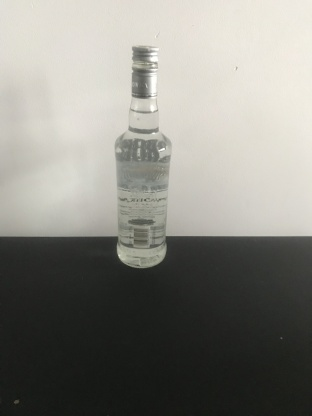nakretka: (130, 45, 160, 98)
